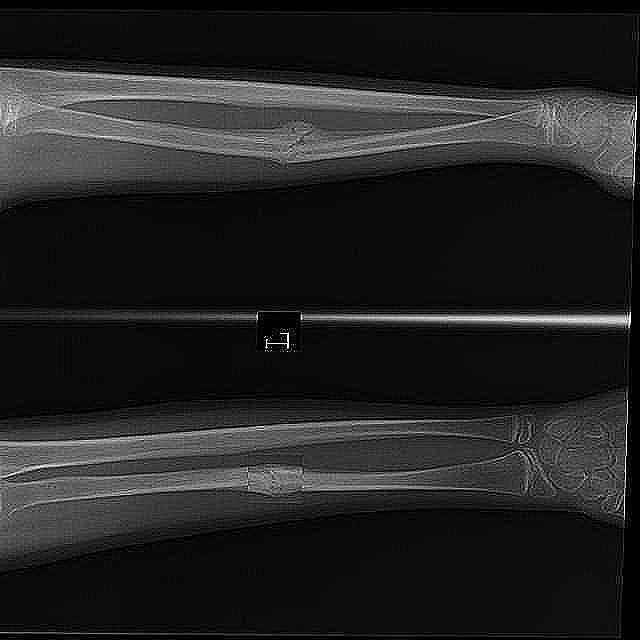bone: (262, 116, 331, 172), (250, 454, 306, 502)
